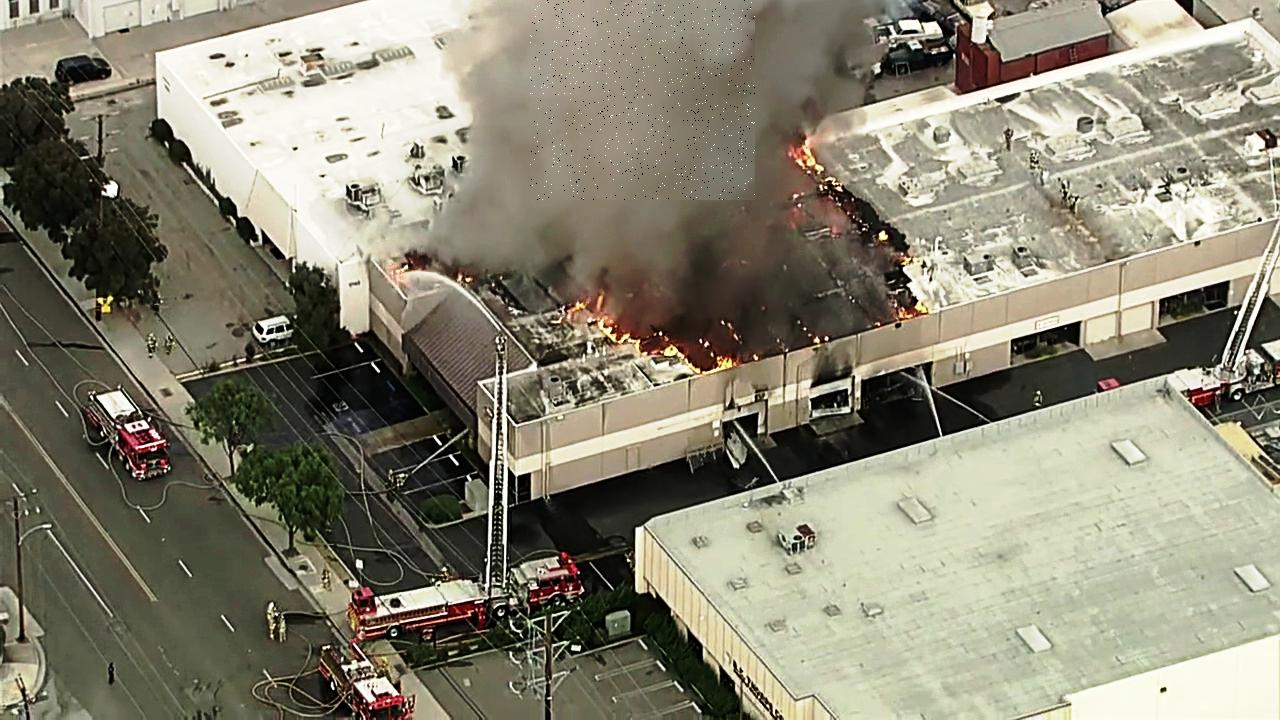smoke: (530, 0, 755, 200)
